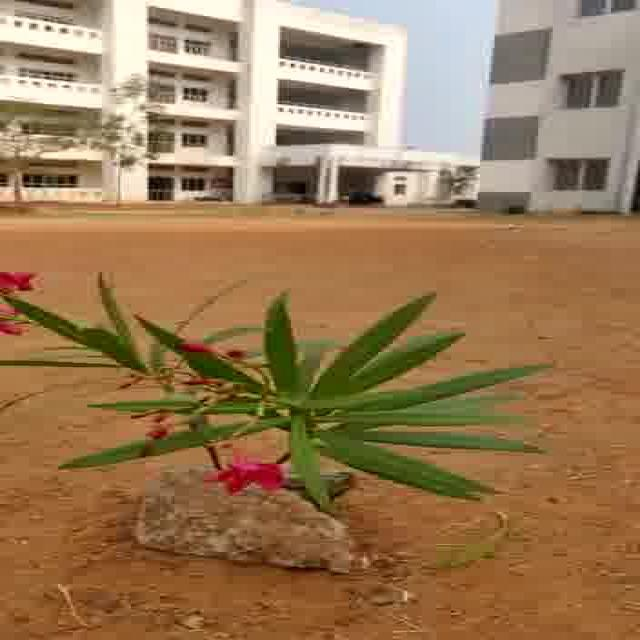Oleander: (14, 262, 546, 496)
